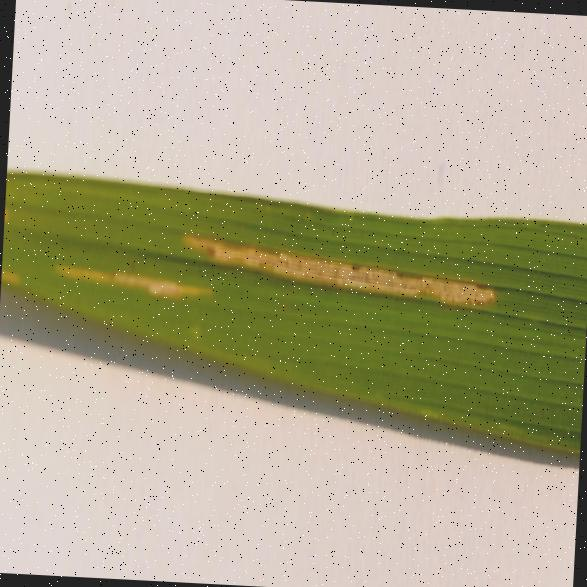Bacteria_Leaf_Blight: (172, 214, 513, 339), (44, 238, 238, 346)
